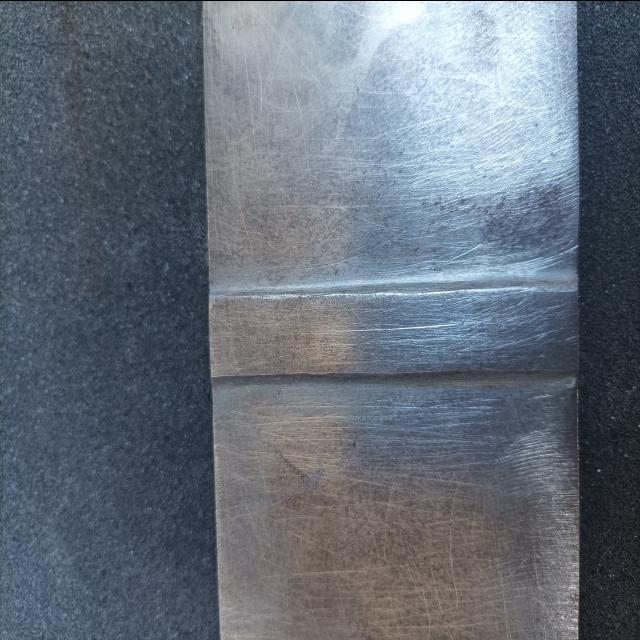Crack: (325, 321, 458, 332)
